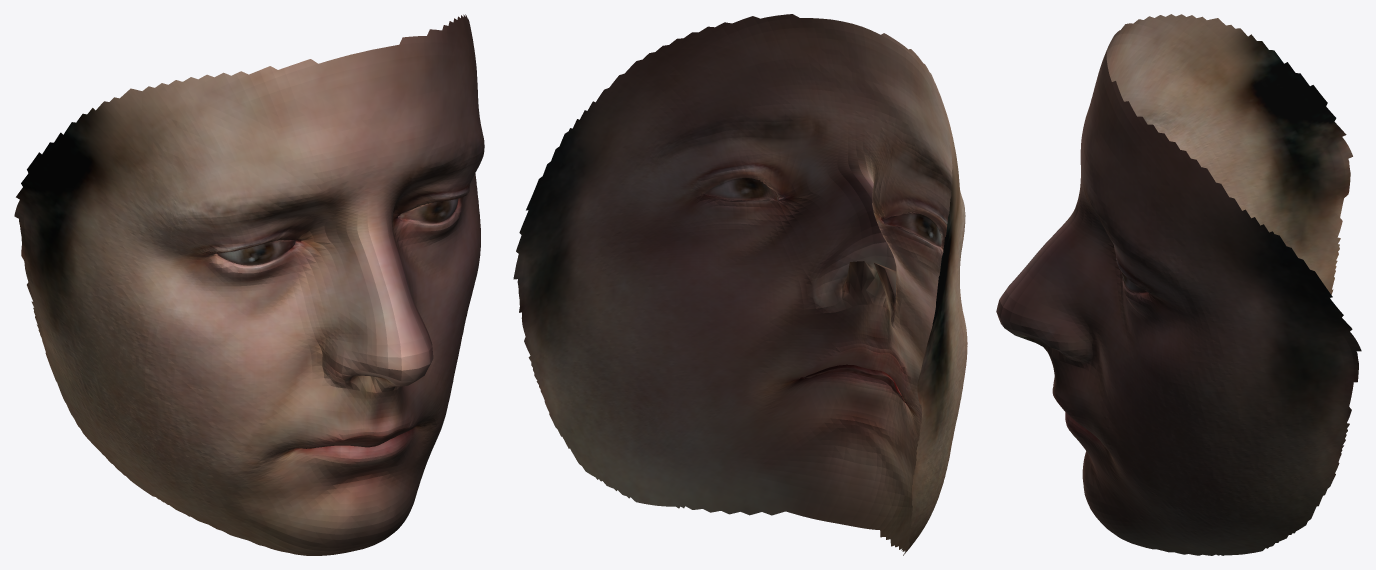
File: sad2_mesh.obj
The picture shows the model from 3 angles, left to right: view 1: azimuth 30°, elevation 25°; view 2: azimuth 150°, elevation 25°; view 3: azimuth 270°, elevation 25°; orthographic projection. The views are drawn at different scales.
Size of the model in its own units: 1.44 by 1.66 by 1.16.
